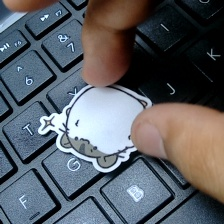mouse: (39, 78, 157, 173)
